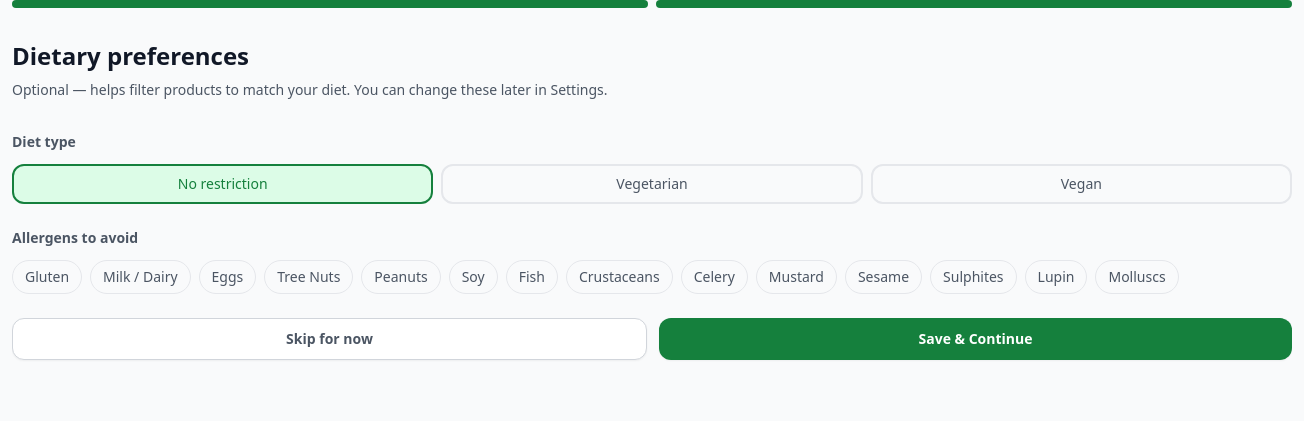
PreferencesForm › shows strict diet toggle after selecting a diet
This screenshot has width=1304, height=421.
Click the button "Vegetarian" at [652, 184], box [441,164,863,204]
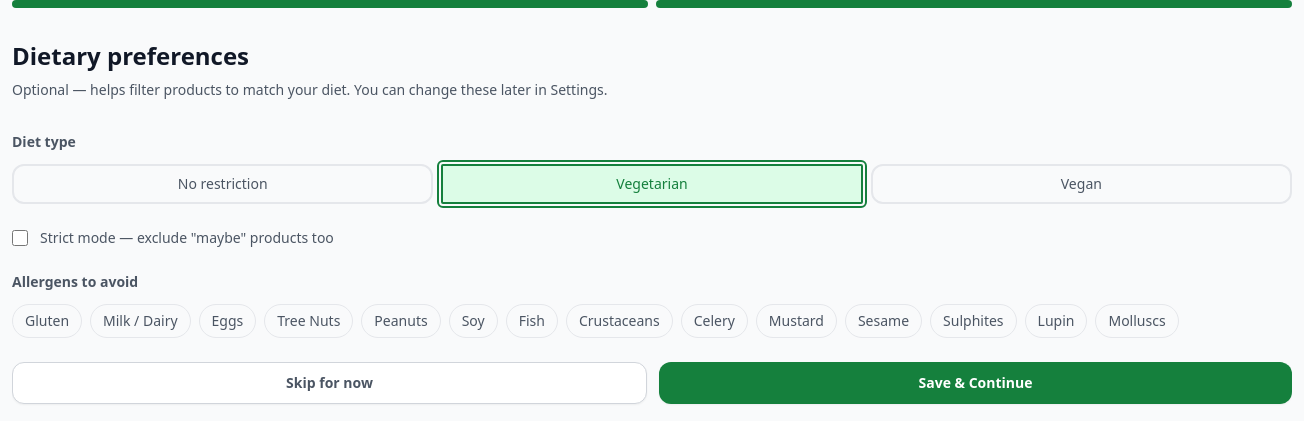
Now the text "Strict mode — exclude \"maybe\" products too" is shown, box [40,228,334,248]
